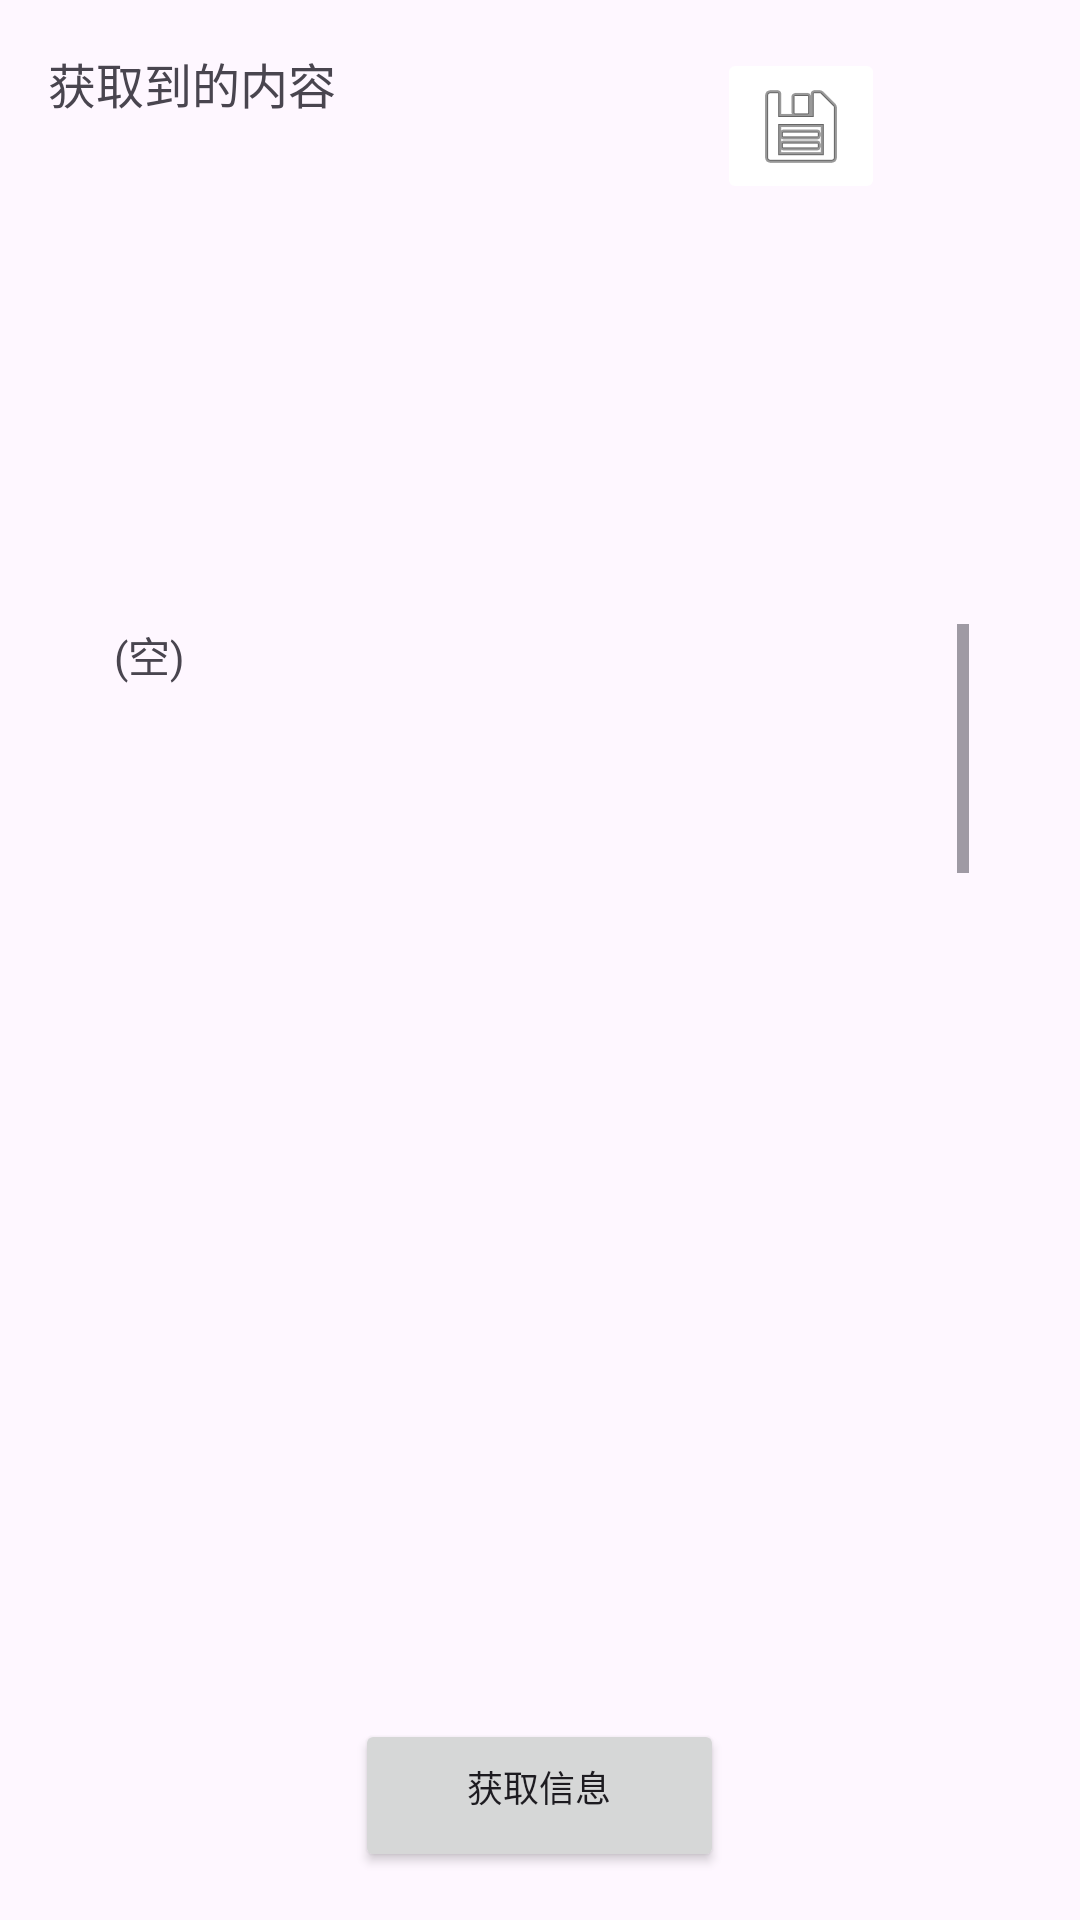

Where to tap for icons on this 1080x1920 app screen, as (x,y):
save: (801,126)
